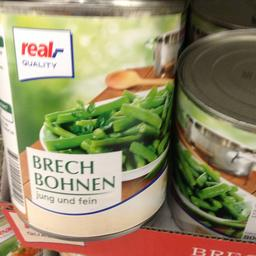beans: (2, 1, 183, 232)
